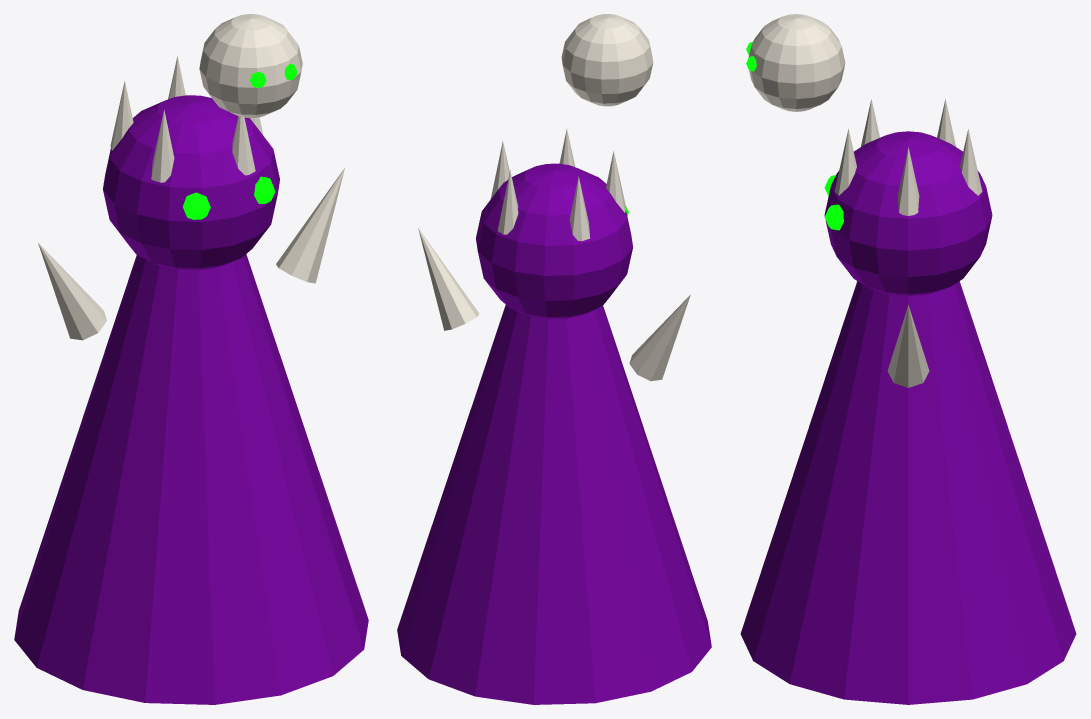
Rendered from boss_necromancer.glb.
The picture shows the model from 3 angles, left to right: view 1: azimuth 30°, elevation 25°; view 2: azimuth 150°, elevation 25°; view 3: azimuth 270°, elevation 25°; orthographic projection. The views are drawn at different scales.
Parts seen in each view (by area): view 1: Cone, Sphere, Sphere.003, Cone.007, Cone.006, Cone.004, Cone.005, Cone.003, Sphere.001; view 2: Cone, Sphere, Sphere.003, Cone.007, Cone.006, Cone.003, Cone.002, Cone.004; view 3: Cone, Sphere, Sphere.003, Cone.007, Cone.001, Cone.002, Cone.005.
Boxes of the visible parts, <box> form: Cone: <box>14,254,368,704</box>; Sphere: <box>103,95,279,270</box>; Sphere.003: <box>199,14,302,117</box>; Cone.007: <box>276,168,344,283</box>; Cone.006: <box>38,243,106,340</box>; Cone.004: <box>151,109,174,182</box>; Cone.005: <box>232,116,255,175</box>; Cone.003: <box>110,80,133,150</box>; Sphere.001: <box>183,192,210,219</box>; Cone: <box>397,305,711,704</box>; Sphere: <box>476,163,632,318</box>; Sphere.003: <box>561,14,653,106</box>; Cone.007: <box>418,228,479,330</box>; Cone.006: <box>629,294,690,381</box>; Cone.003: <box>569,176,590,241</box>; Cone.002: <box>497,170,518,234</box>; Cone.004: <box>606,151,626,212</box>; Cone: <box>740,281,1076,704</box>; Sphere: <box>824,131,992,295</box>; Sphere.003: <box>748,14,845,111</box>; Cone.007: <box>887,305,929,387</box>; Cone.001: <box>897,147,919,215</box>; Cone.002: <box>960,129,982,195</box>; Cone.005: <box>834,129,856,195</box>.
Bounding box in the file's own units: 8.4 × 16.98 × 8.4.
